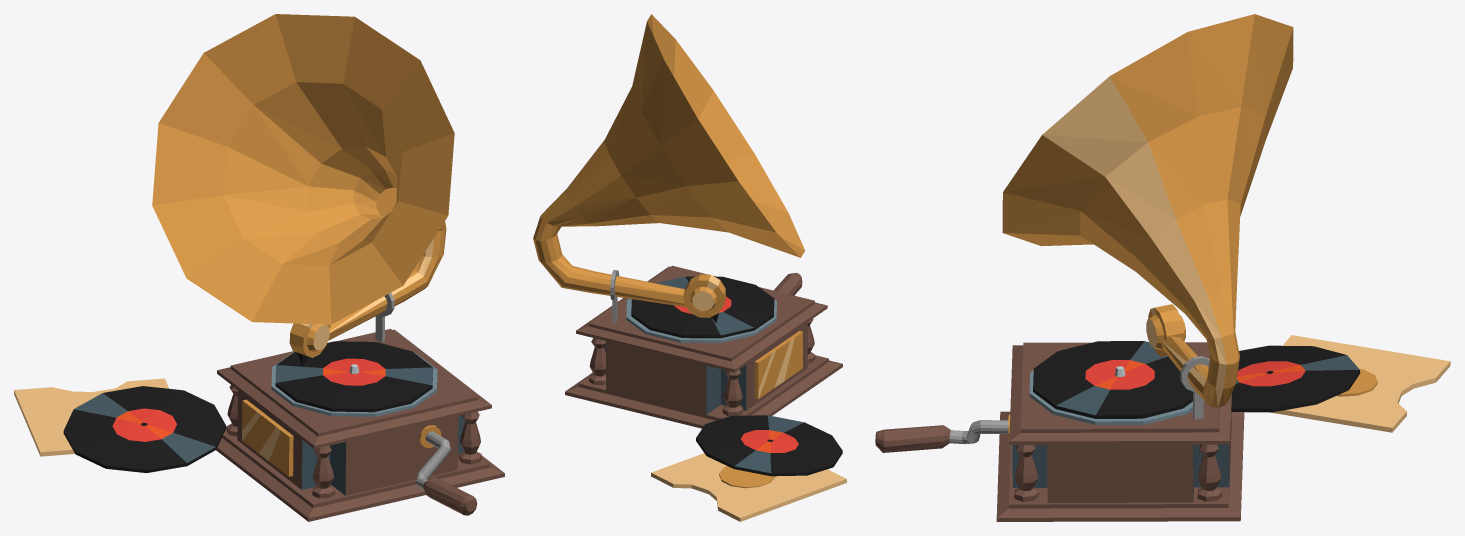
3 views of the same model, side by side, from view 1: azimuth 30°, elevation 25°; view 2: azimuth 150°, elevation 25°; view 3: azimuth 270°, elevation 25° (orthographic). The views are drawn at different scales.
Parts seen in each view (by area): view 1: group_225046476; view 2: group_225046476; view 3: group_225046476.
Part boxes in pixels (x1,y1,x2,y2): group_225046476: (14, 14, 504, 521); group_225046476: (533, 14, 846, 521); group_225046476: (875, 14, 1450, 521).
Bounding box in the file's own units: 90.27 × 95.11 × 109.
